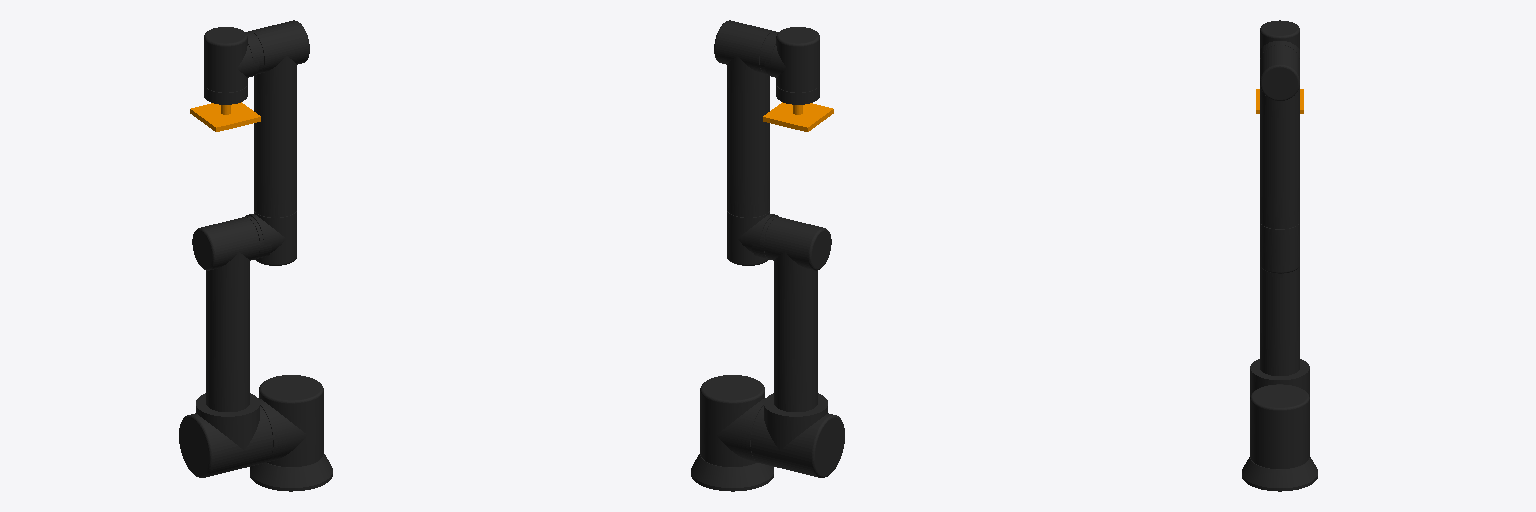
URDF robot description (lynx_ses900):
<?xml version="1.0"?>
<robot name="lynx_ses900">

  <!-- Base Link -->
  <link name="base_link">
    <visual>
      <geometry>
        <mesh filename="package://URDF_description/meshes/base_link.stl" scale="0.001 0.001 0.001"/>
      </geometry>
      <material name="base_material">
        <color rgba="0.2 0.2 0.2 1.0"/>
      </material>
    </visual>
    <collision>
      <geometry>
        <mesh filename="package://URDF_description/meshes/base_link.stl" scale="0.001 0.001 0.001"/>
      </geometry>
    </collision>
    <inertial>
      <mass value="1.5"/>
      <origin xyz="0 0 0" rpy="0 0 0"/>
      <inertia ixx="0.01" ixy="0.0" ixz="0.0" iyy="0.01" iyz="0.0" izz="0.008"/>
    </inertial>
  </link>

  <!-- Shoulder Link -->
  <link name="shoulder_link">
    <visual>
      <geometry>
        <mesh filename="package://URDF_description/meshes/link1.stl" scale="0.001 0.001 0.001"/>
      </geometry>
      <material name="shoulder_material">
        <color rgba="0.2 0.2 0.2 1.0"/>
      </material>
    </visual>
    <collision>
      <geometry>
        <mesh filename="package://URDF_description/meshes/link1.stl" scale="0.001 0.001 0.001"/>
      </geometry>
    </collision>
    <inertial>
      <mass value="0.8"/>
      <origin xyz="0 0 0" rpy="0 0 0"/>
      <inertia ixx="0.005" ixy="0.0" ixz="0.0" iyy="0.005" iyz="0.0" izz="0.003"/>
    </inertial>
  </link>

  <!-- Upper Arm Link -->
  <link name="upper_arm_link">
    <visual>
      <geometry>
        <mesh filename="package://URDF_description/meshes/link2.stl" scale="0.001 0.001 0.001"/>
      </geometry>
      <material name="upper_arm_material">
        <color rgba="0.2 0.2 0.2 1.0"/>
      </material>
    </visual>
    <collision>
      <geometry>
        <mesh filename="package://URDF_description/meshes/link2.stl" scale="0.001 0.001 0.001"/>
      </geometry>
    </collision>
    <inertial>
      <mass value="0.6"/>
      <origin xyz="0.2 0 0" rpy="0 0 0"/>
      <inertia ixx="0.003" ixy="0.0" ixz="0.0" iyy="0.003" iyz="0.0" izz="0.002"/>
    </inertial>
  </link>

  <!-- Forearm Link -->
  <link name="forearm_link">
    <visual>
      <geometry>
        <mesh filename="package://URDF_description/meshes/link3.stl" scale="0.001 0.001 0.001"/>
      </geometry>
      <material name="forearm_material">
        <color rgba="0.2 0.2 0.2 1.0"/>
      </material>
    </visual>
    <collision>
      <geometry>
        <mesh filename="package://URDF_description/meshes/link3.stl" scale="0.001 0.001 0.001"/>
      </geometry>
    </collision>
    <inertial>
      <mass value="0.4"/>
      <origin xyz="0 0 0" rpy="0 0 0"/>
      <inertia ixx="0.002" ixy="0.0" ixz="0.0" iyy="0.002" iyz="0.0" izz="0.001"/>
    </inertial>
  </link>

  <!-- Wrist Link -->
  <link name="wrist_link">
    <visual>
      <geometry>
        <mesh filename="package://URDF_description/meshes/link4.stl" scale="0.001 0.001 0.001"/>
      </geometry>
      <material name="wrist_material">
        <color rgba="0.2 0.2 0.2 1.0"/>
      </material>
    </visual>
    <collision>
      <geometry>
        <mesh filename="package://URDF_description/meshes/link4.stl" scale="0.001 0.001 0.001"/>
      </geometry>
    </collision>
    <inertial>
      <mass value="0.3"/>
      <origin xyz="0 0 0" rpy="0 0 0"/>
      <inertia ixx="0.001" ixy="0.0" ixz="0.0" iyy="0.001" iyz="0.0" izz="0.001"/>
    </inertial>
  </link>

  <!-- Hand Link -->
  <link name="hand_link">
    <visual>
      <geometry>
        <mesh filename="package://URDF_description/meshes/link5.stl" scale="0.001 0.001 0.001"/>
      </geometry>
      <material name="hand_material">
        <color rgba="0.2 0.2 0.2 1.0"/>
      </material>
    </visual>
    <collision>
      <geometry>
        <mesh filename="package://URDF_description/meshes/link5.stl" scale="0.001 0.001 0.001"/>
      </geometry>
    </collision>
    <inertial>
      <mass value="0.2"/>
      <origin xyz="0 0 0.4" rpy="0 0 0"/>
      <inertia ixx="0.0005" ixy="0.0" ixz="0.0" iyy="0.0005" iyz="0.0" izz="0.0005"/>
    </inertial>
  </link>

  <!-- Tool Link -->
  <link name="tool_link">
    <visual>
      <geometry>
        <mesh filename="package://URDF_description/meshes/link6.stl" scale="0.001 0.001 0.001"/>
      </geometry>
      <material name="tool_material">
        <color rgba="1 0.6 0 1.0"/>
      </material>
    </visual>
    <collision>
      <geometry>
        <mesh filename="package://URDF_description/meshes/link6.stl" scale="0.001 0.001 0.001"/>
      </geometry>
    </collision>
    <inertial>
      <mass value="0.1"/>
      <origin xyz="0 0 0" rpy="0 0 0"/>
      <inertia ixx="0.0002" ixy="0.0" ixz="0.0" iyy="0.0002" iyz="0.0" izz="0.0002"/>
    </inertial>
  </link>

  <!-- Base to Shoulder Joint -->
  <joint name="joint_1" type="revolute">
    <parent link="base_link"/>
    <child link="shoulder_link"/>
    <origin xyz="0 0 0" rpy="0 0 0"/>
    <axis xyz="0 0 -1"/>
    <limit lower="-3.1416" upper="3.1416" effort="50" velocity="1.5"/>
    <dynamics damping="0.1" friction="0.1"/>
  </joint>

  <!-- Shoulder to Upper Arm Joint -->
  <joint name="joint_2" type="revolute">
    <parent link="shoulder_link"/>
    <child link="upper_arm_link"/>
    <origin xyz="-0.04 0 0.1" rpy="0 0 0"/>
    <axis xyz="1 0 0"/>
    <limit lower="-3.1416" upper="3.1416" effort="50" velocity="1.5"/>
    <dynamics damping="0.1" friction="0.1"/>
  </joint>

  <!-- Upper Arm to Forearm Joint -->
  <joint name="joint_3" type="revolute">
    <parent link="upper_arm_link"/>
    <child link="forearm_link"/>
    <origin xyz="-0.045 0 0.415" rpy="0 0 3.1416"/> <!-- 180° autour de Z -->
    <axis xyz="1 0 0"/>
    <limit lower="-3.1416" upper="3.1416" effort="40" velocity="1.5"/>
    <dynamics damping="0.1" friction="0.1"/>
  </joint>

  <!-- Forearm to Wrist Joint -->
  <joint name="joint_4" type="revolute">
    <parent link="forearm_link"/>
    <child link="wrist_link"/>
    <origin xyz="-0.05 0 0.05" rpy="0 0 3.1416"/>
    <axis xyz="0 0 -1"/>
    <limit lower="-3.1416" upper="3.1416" effort="30" velocity="1.5"/>
    <dynamics damping="0.1" friction="0.1"/>
  </joint>

  <!-- Wrist to Hand Joint -->
  <joint name="joint_5" type="revolute">
    <parent link="wrist_link"/>
    <child link="hand_link"/>
    <origin xyz="-0.06 0 0.335" rpy="0 0 0"/>
    <axis xyz="1 0 0"/>
    <limit lower="-3.1416" upper="3.1416" effort="20" velocity="1.5"/>
    <dynamics damping="0.1" friction="0.1"/>
  </joint>

  <!-- Hand to Tool Joint -->
  <joint name="joint_6" type="revolute">
    <parent link="hand_link"/>
    <child link="tool_link"/>
    <origin xyz="-0.05 0 -0.07" rpy="0 0 0"/>
    <axis xyz="0 0 1"/>
    <limit lower="-3.1416" upper="3.1416" effort="10" velocity="2.0"/>
    <dynamics damping="0.1" friction="0.1"/>
  </joint>

  <!-- TCP Link pour MoveIt -->
  <link name="tcp"/>

  <!-- Tool to TCP Joint -->
  <joint name="tool_to_tcp" type="fixed">
    <parent link="tool_link"/>
    <child link="tcp"/>
    <origin xyz="0 0 -0.05" rpy="0 0 0"/>
  </joint>

</robot>

--- Render facts (derived) ---
The picture shows the robot from 3 angles, left to right: view 1: azimuth 30°, elevation 25°; view 2: azimuth 150°, elevation 25°; view 3: azimuth 270°, elevation 25°; orthographic projection.
Robot: lynx_ses900 — 8 links, 7 joints (6 revolute, 1 fixed); root link base_link; default pose: all joints at 0.
Visible links, largest first — view 1: upper_arm_link, wrist_link, shoulder_link, hand_link, forearm_link, base_link, tool_link; view 2: upper_arm_link, wrist_link, shoulder_link, hand_link, forearm_link, base_link, tool_link; view 3: wrist_link, upper_arm_link, shoulder_link, forearm_link, base_link, hand_link.
Link boxes in pixels (x1,y1,x2,y2): upper_arm_link: (179,216,287,477); wrist_link: (245,20,309,215); shoulder_link: (258,375,323,466); hand_link: (204,27,258,104); forearm_link: (245,198,296,265); base_link: (250,454,332,491); tool_link: (190,102,260,131); upper_arm_link: (736,216,844,477); wrist_link: (714,20,778,215); shoulder_link: (700,375,765,466); hand_link: (765,27,819,104); forearm_link: (727,198,778,265); base_link: (691,454,773,491); tool_link: (763,102,833,131); wrist_link: (1260,41,1299,227); upper_arm_link: (1250,266,1309,396); shoulder_link: (1250,384,1309,468); forearm_link: (1260,211,1299,273); base_link: (1242,457,1317,491); hand_link: (1260,20,1299,52).
Size in the robot's own frame: 0.2951 by 0.16 by 0.9608 metres.
Meshes: 7 distinct files referenced, 7 mesh visuals loaded (7 binary STL).
